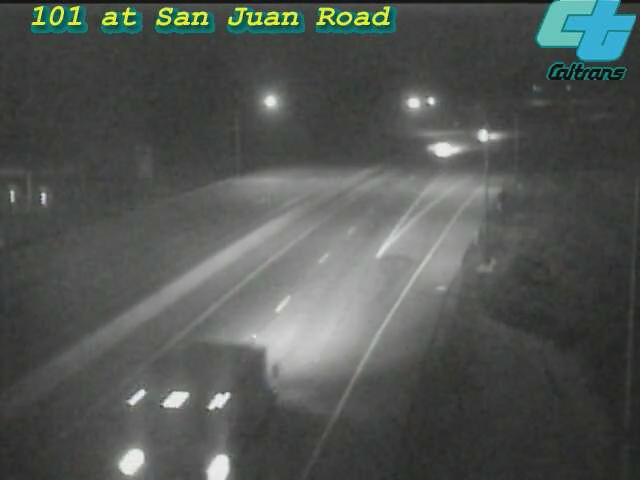vehicle: (146, 346, 256, 456), (461, 111, 511, 161), (418, 124, 468, 174)
